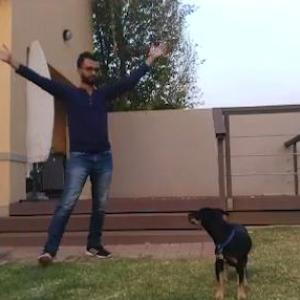takeoff: (1, 39, 176, 266)
